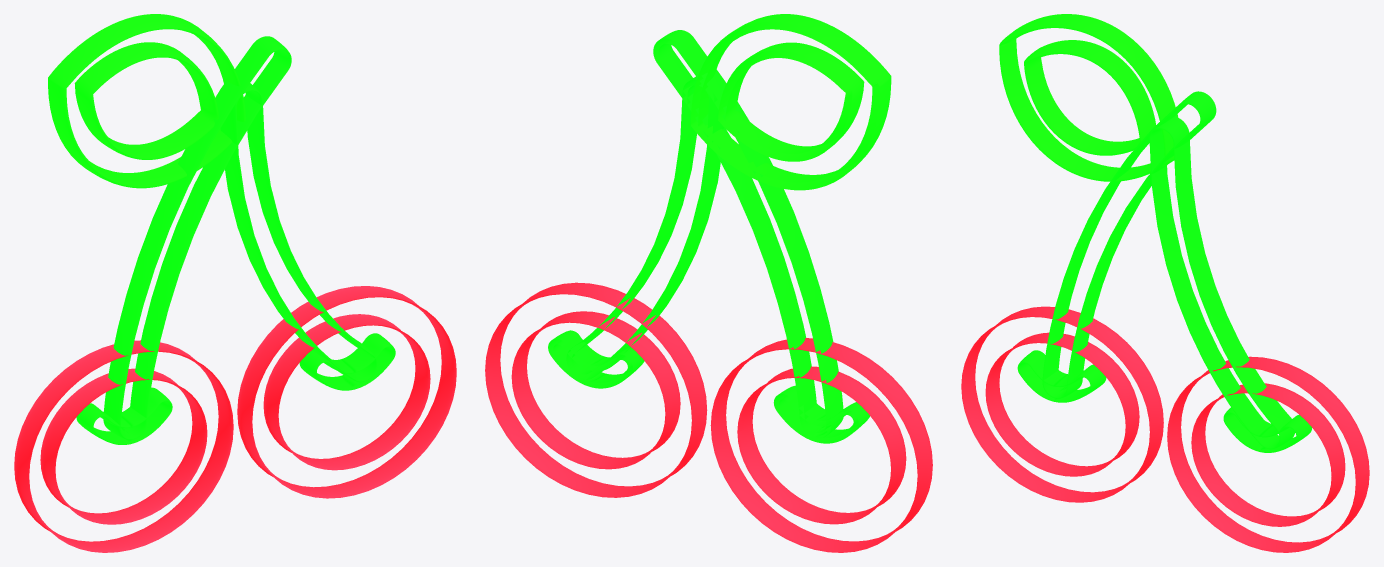
The model's file is cherry.glb.
3 views of the same model, side by side, from view 1: azimuth 30°, elevation 25°; view 2: azimuth 150°, elevation 25°; view 3: azimuth 330°, elevation 25° (orthographic). The views are drawn at different scales.
Parts seen in each view (by area): view 1: Curve.001, Curve.005, Curve.006; view 2: Curve.001, Curve.005, Curve.006; view 3: Curve.001, Curve.005, Curve.006.
Boxes of the visible parts, bbox=[...] form: Curve.001: bbox=[14, 286, 456, 552]; Curve.005: bbox=[76, 36, 395, 444]; Curve.006: bbox=[48, 14, 245, 188]; Curve.001: bbox=[485, 282, 932, 552]; Curve.005: bbox=[548, 30, 869, 443]; Curve.006: bbox=[691, 14, 891, 190]; Curve.001: bbox=[961, 306, 1369, 552]; Curve.005: bbox=[1017, 91, 1311, 452]; Curve.006: bbox=[999, 14, 1178, 181].
Bounding box in the file's own units: 16.83 × 19.39 × 1.27.
